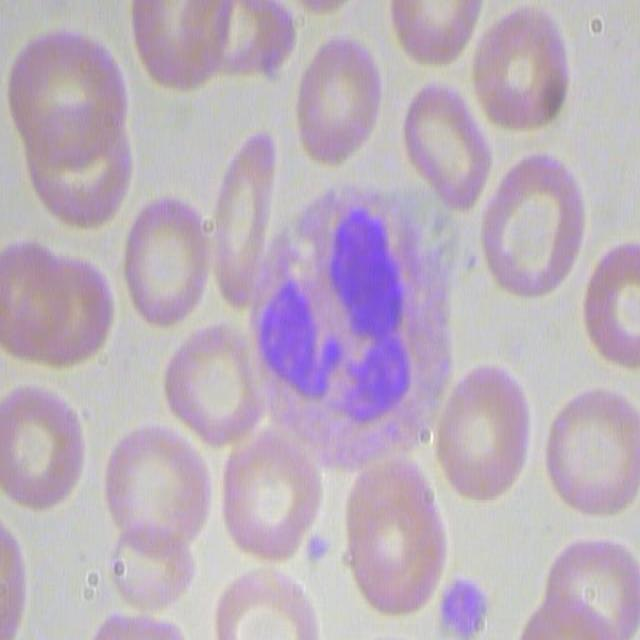RBC: (0, 18, 130, 242), (218, 394, 327, 564), (477, 148, 589, 309), (1, 227, 115, 378), (338, 459, 445, 618), (430, 356, 542, 507), (101, 417, 211, 558), (470, 0, 575, 140), (120, 192, 218, 342), (162, 325, 266, 460), (398, 80, 491, 230), (290, 30, 388, 171), (537, 384, 637, 520), (204, 133, 282, 297), (523, 526, 638, 637), (0, 369, 85, 517), (126, 0, 240, 91), (209, 556, 323, 640), (200, 0, 296, 92), (581, 235, 640, 373), (114, 524, 198, 604), (384, 0, 482, 66)
WBC: (260, 211, 414, 415)
platelets: (435, 568, 490, 639)
